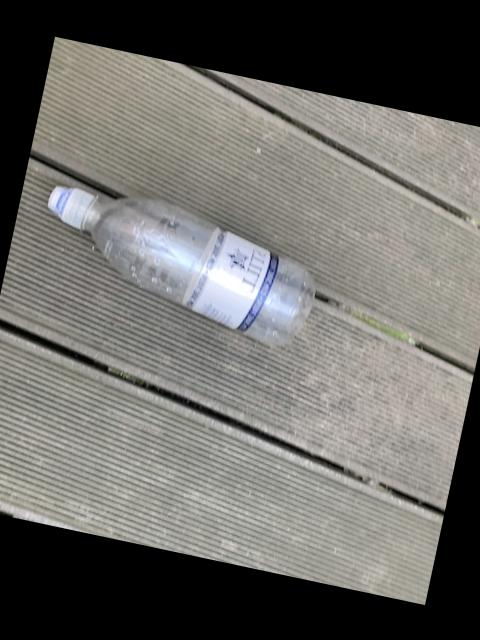plastic: (50, 187, 315, 345)
